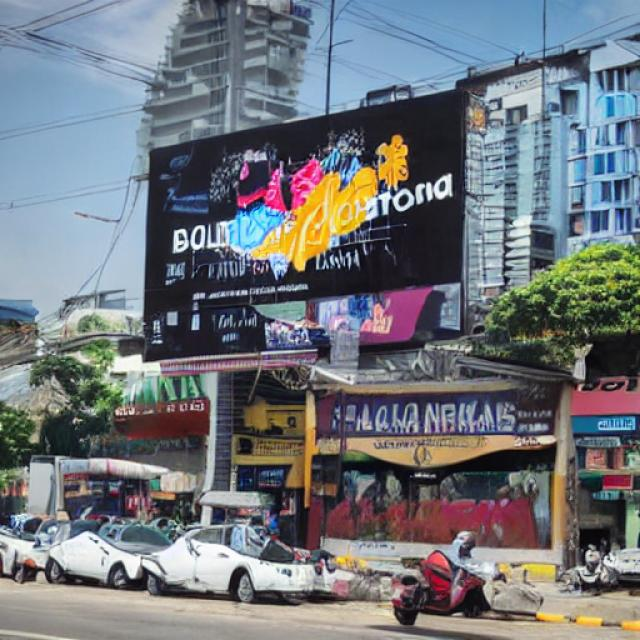Billboard: (140, 88, 471, 364)
